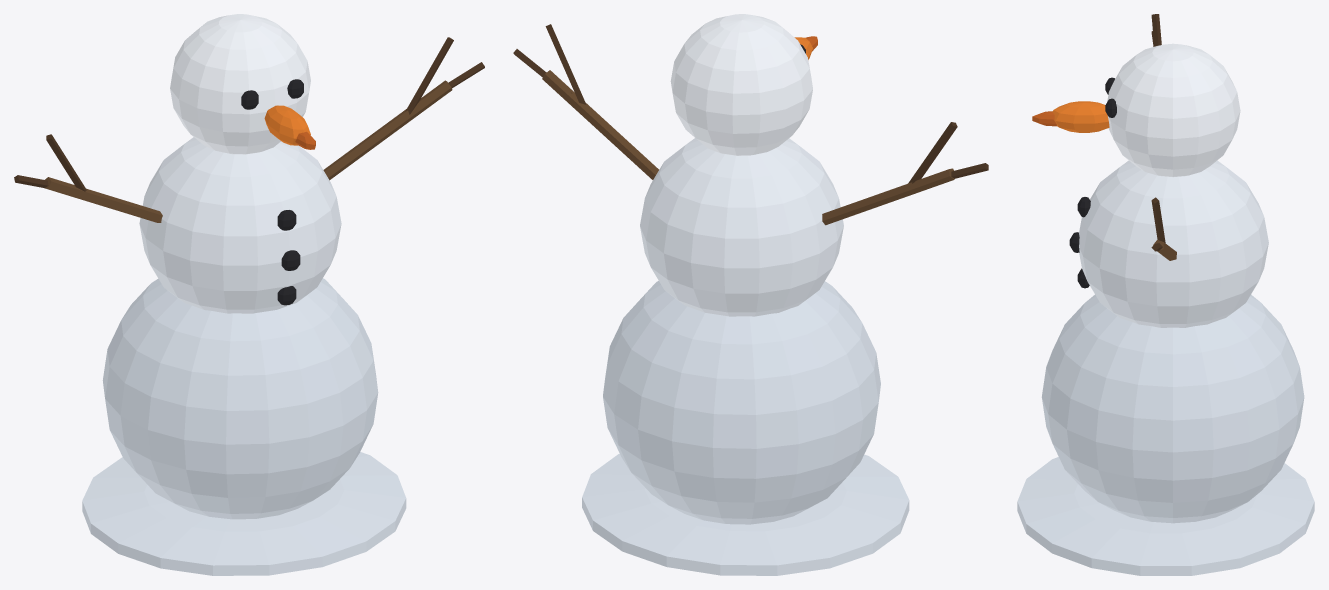
The model's file is Building_Snowman.glb.
3 renders of one model, left to right at view 1: azimuth 30°, elevation 25°; view 2: azimuth 150°, elevation 25°; view 3: azimuth 270°, elevation 25°, orthographic. The views are drawn at different scales.
Visible parts, largest first — view 1: Snowman; view 2: Snowman; view 3: Snowman.
Part boxes in pixels (<box>): Snowman: <box>14,14,484,575</box>; Snowman: <box>513,14,988,575</box>; Snowman: <box>1017,14,1314,575</box>.
Size of the model in its own units: 1.45 by 1.47 by 0.8369.
Materials: 1 (1 with a texture image).
